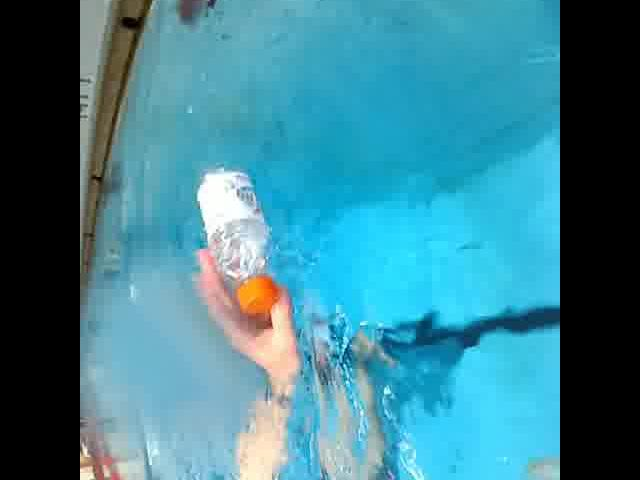Bottle: (189, 163, 283, 321)
